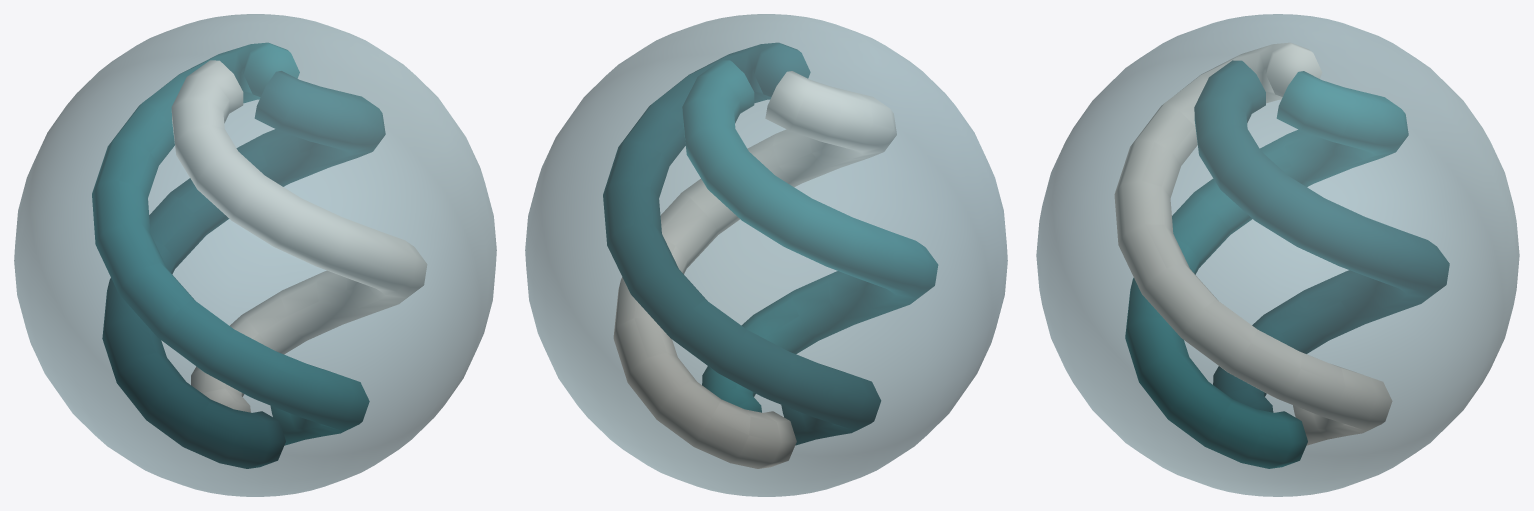
Rendered from grotto_marble.glb.
3 views of the same model, side by side, from view 1: azimuth 30°, elevation 25°; view 2: azimuth 150°, elevation 25°; view 3: azimuth 270°, elevation 25° (orthographic).
Visible parts, largest first — view 1: grotto_marble; view 2: grotto_marble; view 3: grotto_marble.
Part boxes in pixels (x1,y1,x2,y2): grotto_marble: (14,14,496,496); grotto_marble: (525,14,1007,496); grotto_marble: (1036,14,1519,496).
Size of the model in its own units: 6 by 6 by 6.
